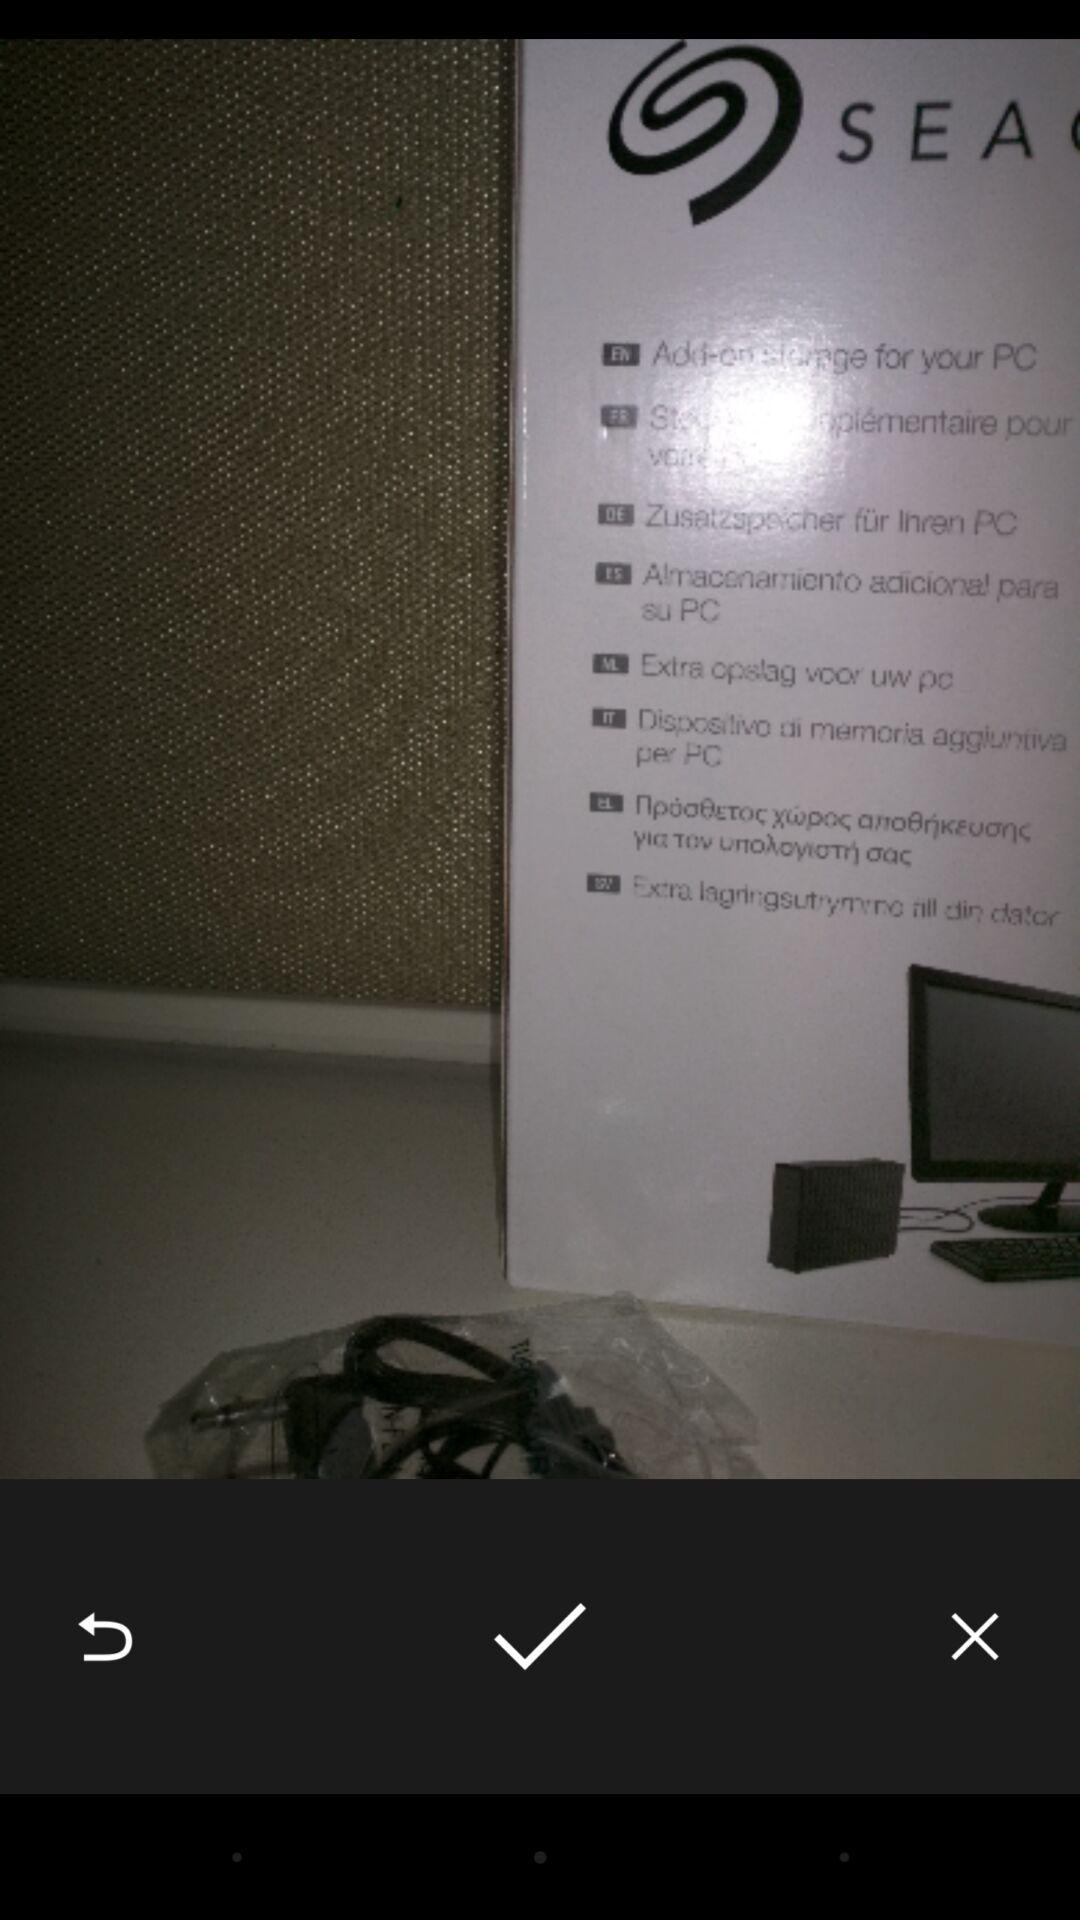Bar: (225, 1676, 855, 1753)
ImageView: (5, 40, 1075, 1480), (922, 1323, 1048, 1448), (953, 1352, 1017, 1414), (891, 1352, 953, 1414)
SpecialButton: (5, 1532, 210, 1742), (162, 1323, 287, 1448), (320, 1323, 446, 1448), (477, 1323, 603, 1448), (634, 1323, 760, 1448), (793, 1323, 918, 1448), (83, 1323, 208, 1448), (241, 1323, 367, 1448), (398, 1323, 524, 1448), (556, 1323, 682, 1448), (713, 1323, 839, 1448)
TextView: (5, 5, 1075, 1793), (628, 1040, 1048, 1282), (189, 596, 377, 742)
